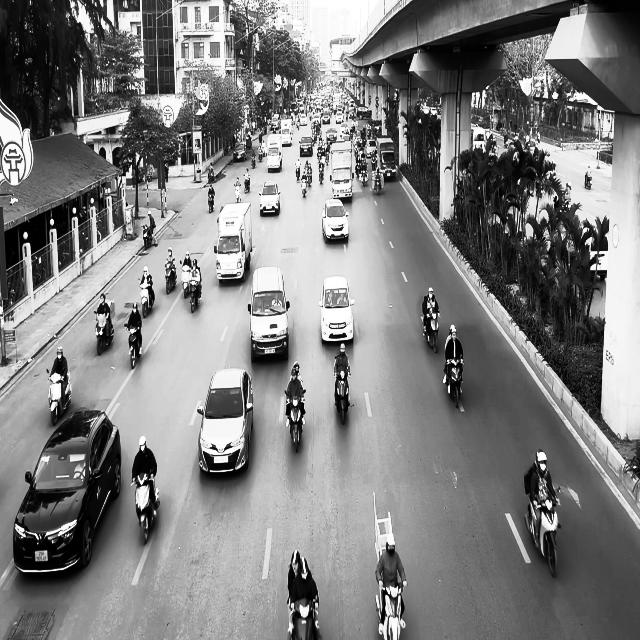car: (12, 406, 122, 575), (196, 366, 254, 474), (247, 266, 290, 362), (318, 276, 355, 343), (322, 198, 349, 242), (258, 180, 281, 216), (299, 135, 313, 157)
motorbike: (524, 486, 561, 578), (131, 472, 159, 544), (375, 580, 404, 640), (46, 368, 71, 426), (284, 389, 306, 452), (287, 597, 320, 639), (333, 369, 352, 425), (93, 309, 114, 355), (444, 358, 463, 408), (420, 310, 440, 352), (124, 324, 142, 369), (138, 277, 154, 318), (188, 270, 202, 313), (180, 260, 191, 298), (164, 262, 177, 294), (208, 190, 215, 213), (234, 185, 242, 203), (584, 172, 592, 189), (243, 174, 250, 193)
truck: (214, 202, 252, 284)
